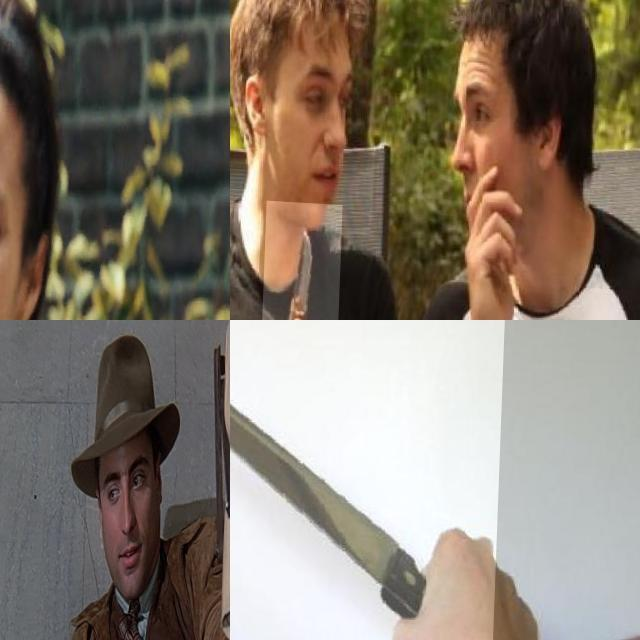-: (230, 320, 505, 640), (262, 198, 344, 320)
